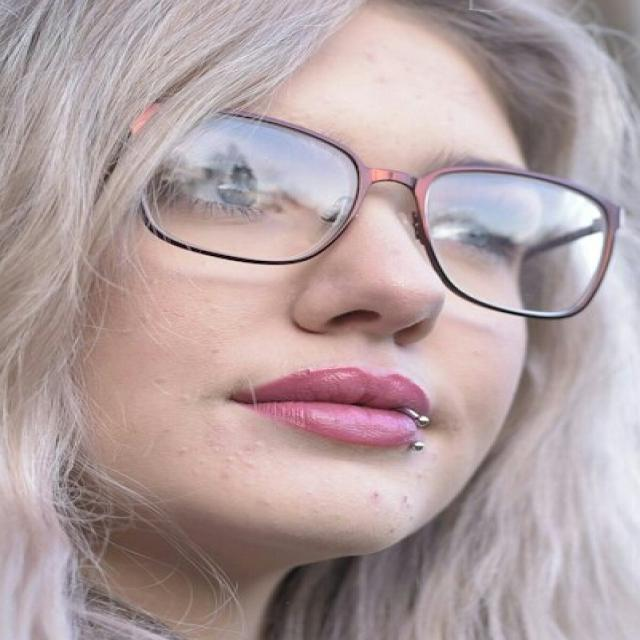front: (114, 98, 559, 511)
